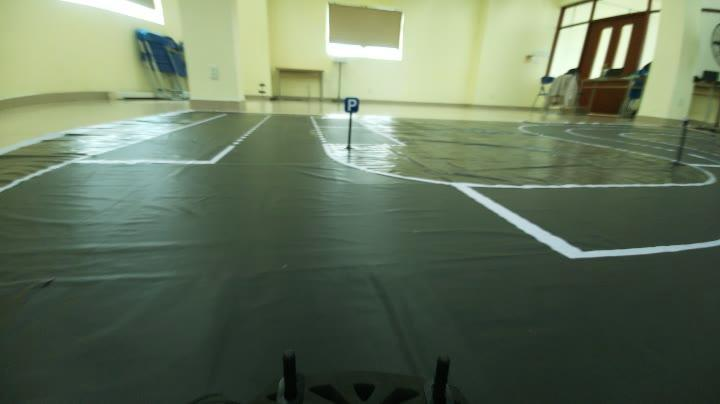parking: (340, 91, 368, 115)
